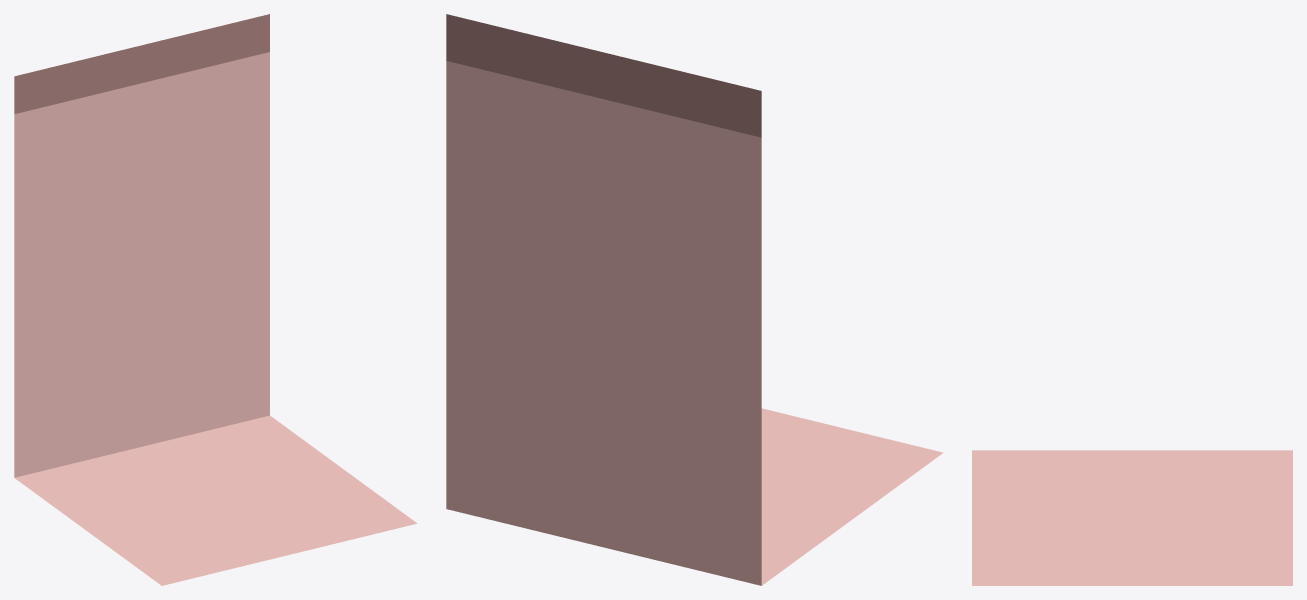
The model's file is Wall_Default.fbx.
3 renders of one model, left to right at view 1: azimuth 30°, elevation 25°; view 2: azimuth 150°, elevation 25°; view 3: azimuth 270°, elevation 25°, orthographic. The views are drawn at different scales.
Visible parts, largest first — view 1: Wall_Default; view 2: Wall_Default; view 3: Wall_Default.
Boxes of the visible parts, x1=… form: Wall_Default: x1=14, y1=14, x2=417, y2=585; Wall_Default: x1=446, y1=14, x2=943, y2=585; Wall_Default: x1=972, y1=450, x2=1292, y2=585.
Bounding box in the file's own units: 2 × 3 × 2.
